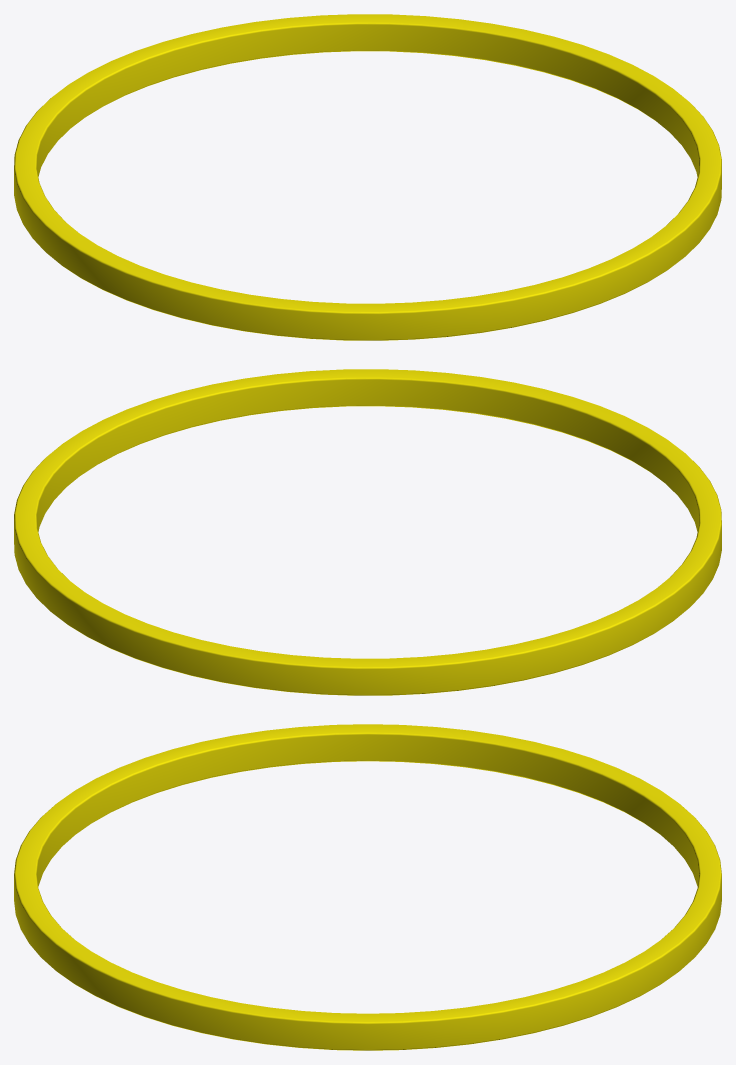
3 renders of one model, top to bottom at view 1: azimuth 30°, elevation 25°; view 2: azimuth 150°, elevation 25°; view 3: azimuth 270°, elevation 25°, orthographic.
Parts seen in each view (by area): view 1: seal_body; view 2: seal_body; view 3: seal_body.
Part boxes in pixels (x1,y1,x2,y2): seal_body: (14, 14, 721, 340); seal_body: (14, 369, 721, 695); seal_body: (14, 724, 721, 1050).
Size of the model in its own units: 0.2104 by 0.00952 by 0.2104.
